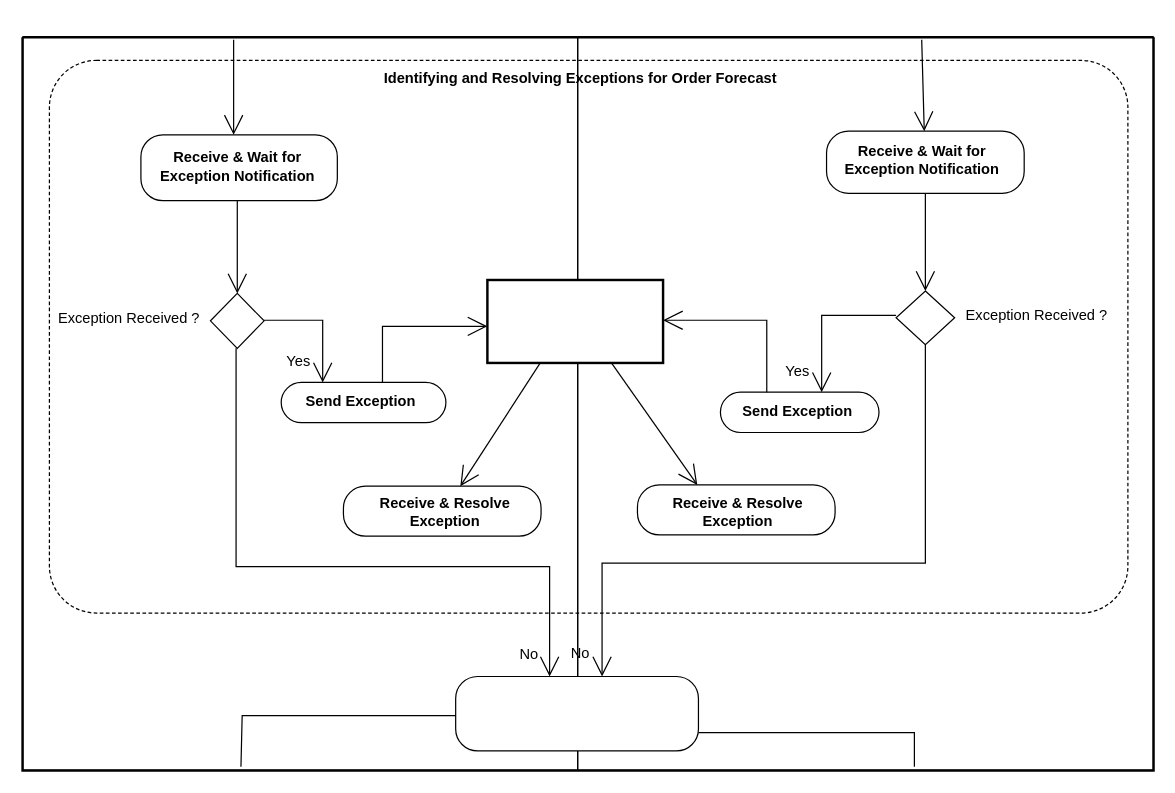
Some shapes in this 1175 by 793 pixel diagram are drawn without their labels. Each missing label, with the centre of its shape:
"Exception Notification (positive)" goes at (575,321).
"Ordering" goes at (576,713).
